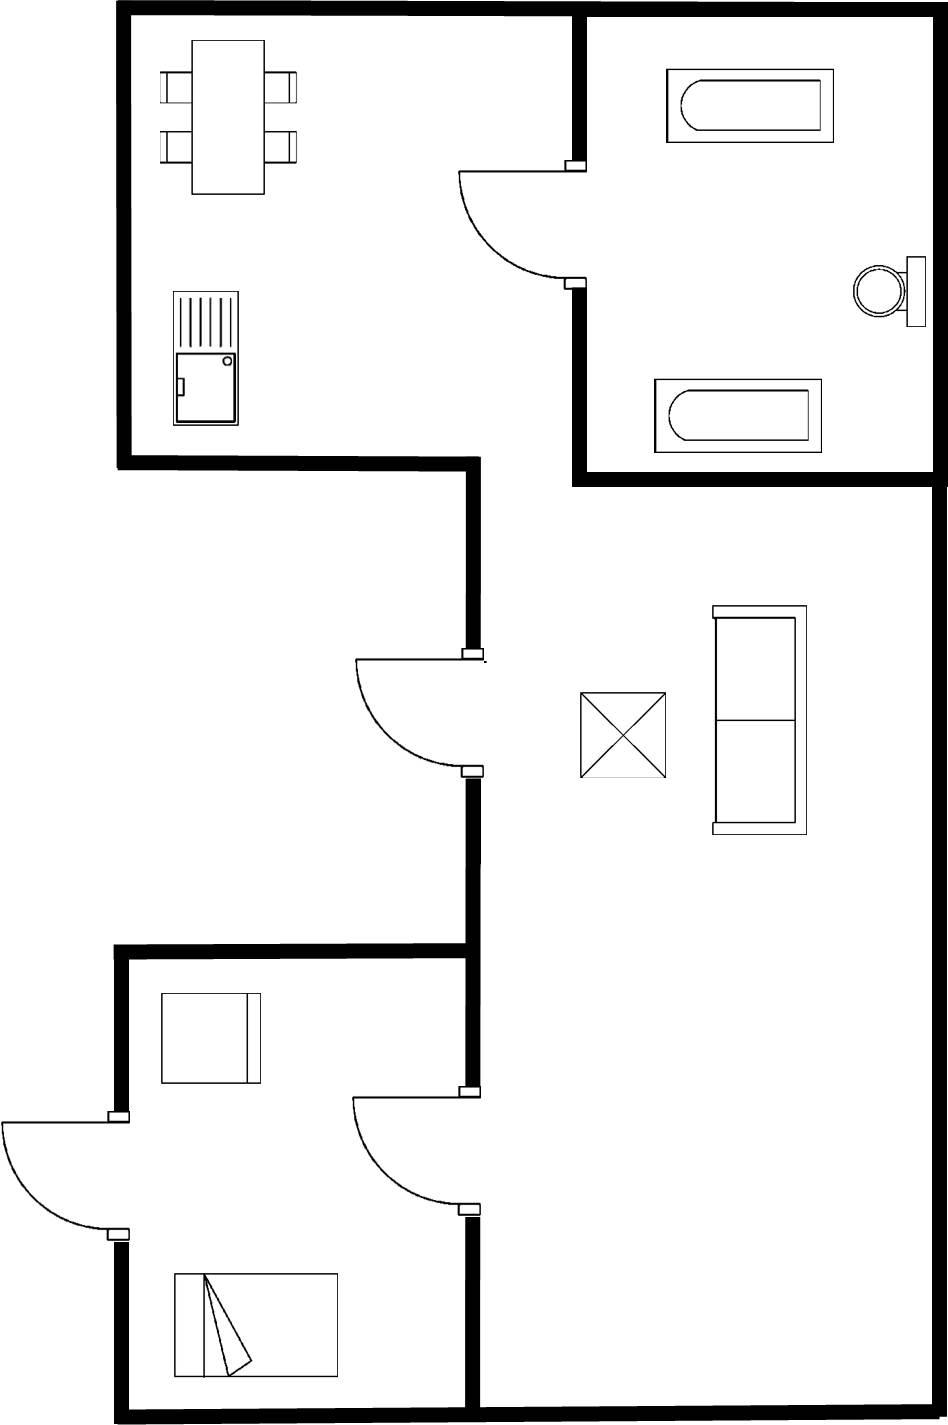bed: (165, 1263, 345, 1383)
dining_table: (151, 32, 306, 205)
sink: (165, 279, 247, 430)
sofa: (704, 597, 813, 843)
toilet: (844, 248, 929, 329)
tub: (645, 372, 827, 458), (659, 63, 842, 148)
